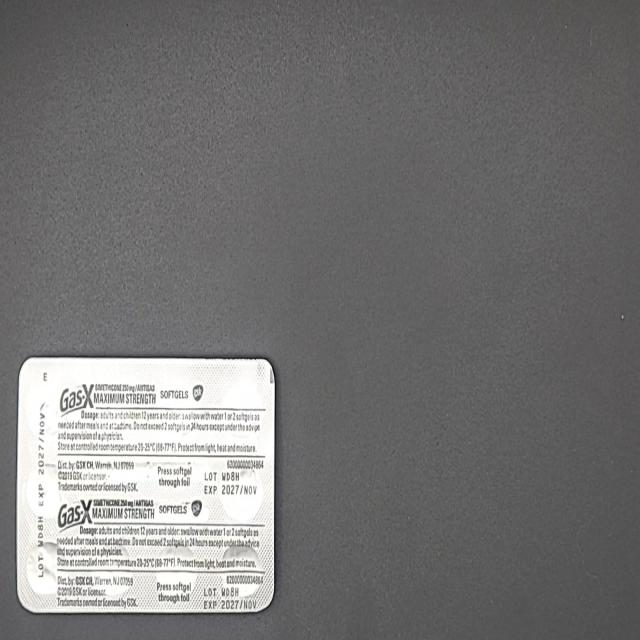no defect: (5, 13, 30, 61)
